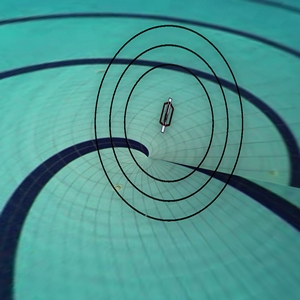circle: (79, 14, 264, 240)
submarine: (151, 91, 187, 144)
